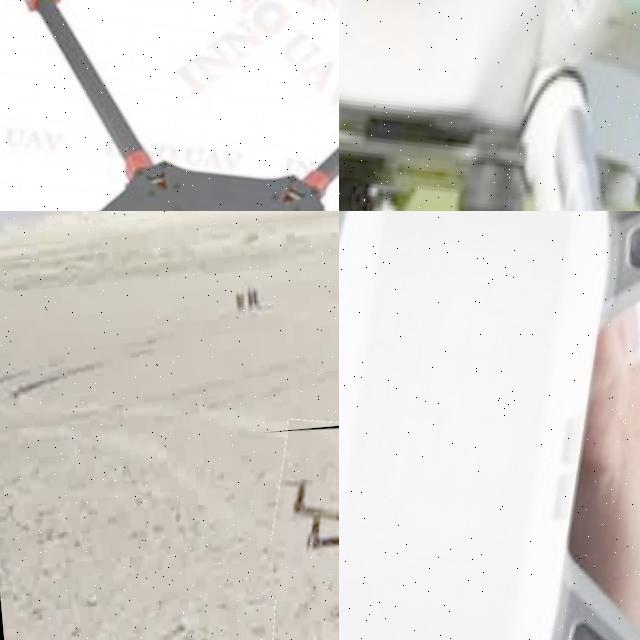0: (260, 405, 339, 640)
drone: (339, 211, 640, 640), (0, 0, 339, 211), (339, 0, 640, 211)
